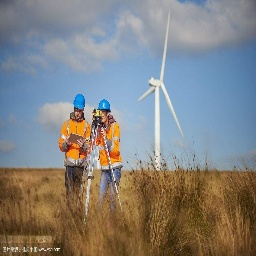helmet: (73, 93, 86, 111), (97, 99, 111, 114)
person: (59, 92, 94, 216), (97, 100, 123, 221)
vest: (58, 116, 89, 168), (97, 125, 121, 174)
